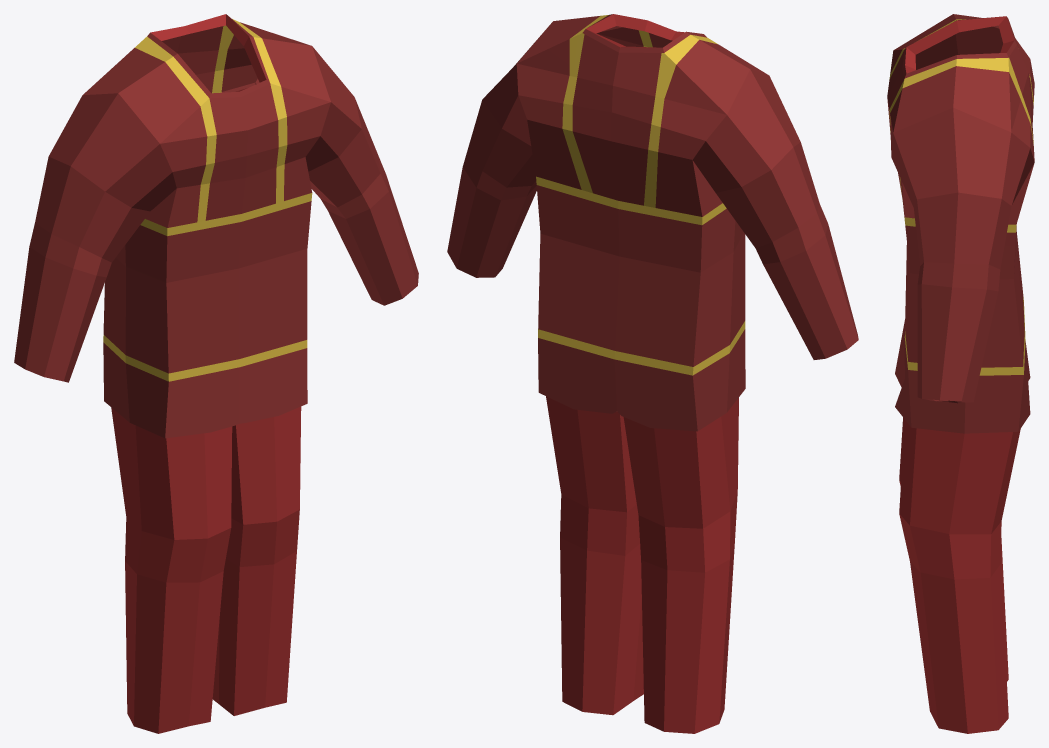
The model's file is suit.fbx.
3 views of the same model, side by side, from view 1: azimuth 30°, elevation 25°; view 2: azimuth 150°, elevation 25°; view 3: azimuth 270°, elevation 25° (orthographic). The views are drawn at different scales.
Visible parts, largest first — view 1: firefighter.001; view 2: firefighter.001; view 3: firefighter.001.
Boxes of the visible parts, x1,y1,x2,y2 form: firefighter.001: (14,14,418,733); firefighter.001: (447,14,858,733); firefighter.001: (887,14,1034,733).
Size of the model in its own units: 170 by 277 by 55.59.
